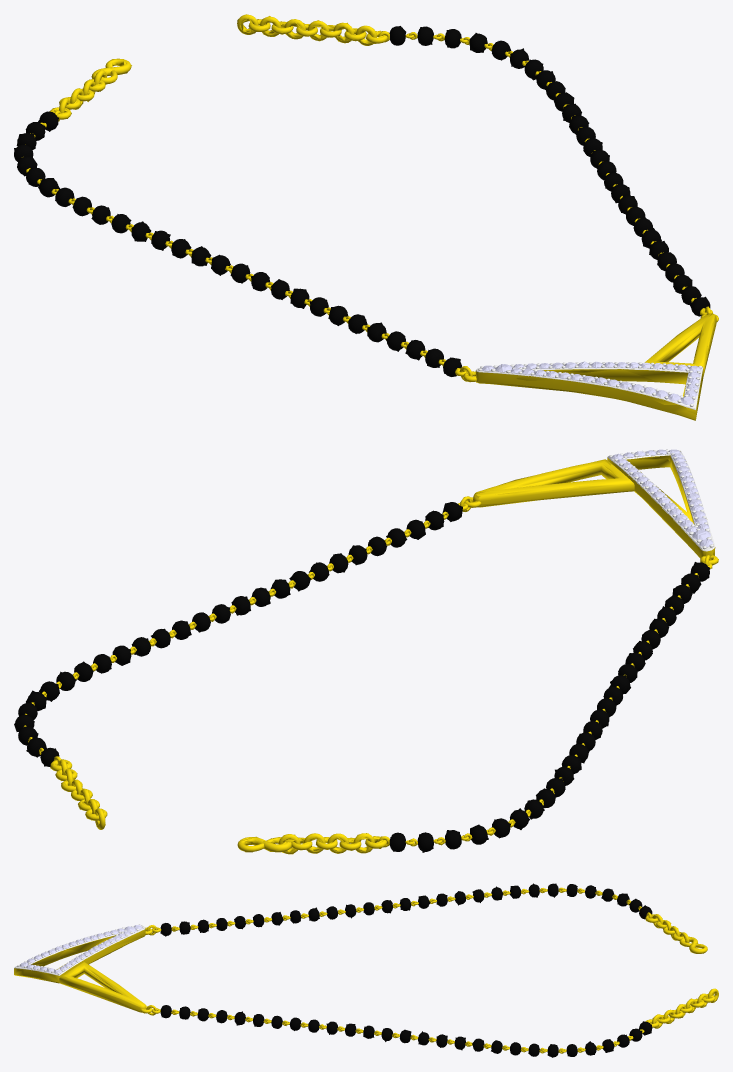
3 renders of one model, top to bottom at view 1: azimuth 30°, elevation 25°; view 2: azimuth 150°, elevation 25°; view 3: azimuth 270°, elevation 25°, orthographic. The views are drawn at different scales.
Visible parts, largest first — view 1: highPolyMesh, lowPolyMesh; view 2: highPolyMesh, lowPolyMesh; view 3: highPolyMesh, lowPolyMesh.
Part boxes in pixels (bbox=[...]): highPolyMesh: bbox=[14, 14, 718, 420]; lowPolyMesh: bbox=[14, 14, 718, 418]; highPolyMesh: bbox=[15, 449, 717, 854]; lowPolyMesh: bbox=[14, 449, 718, 854]; highPolyMesh: bbox=[14, 883, 718, 1057]; lowPolyMesh: bbox=[15, 883, 718, 1057].
Bounding box in the file's own units: 0.0626 × 0.0038 × 0.1122.
